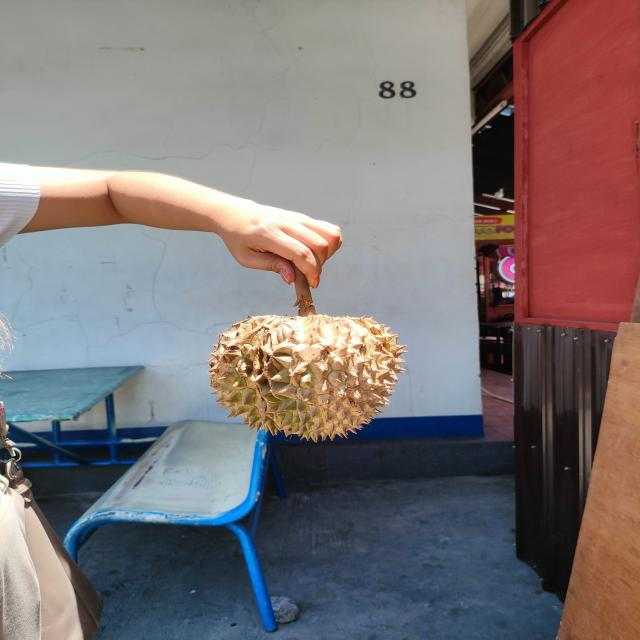mature: (206, 314, 410, 446)
